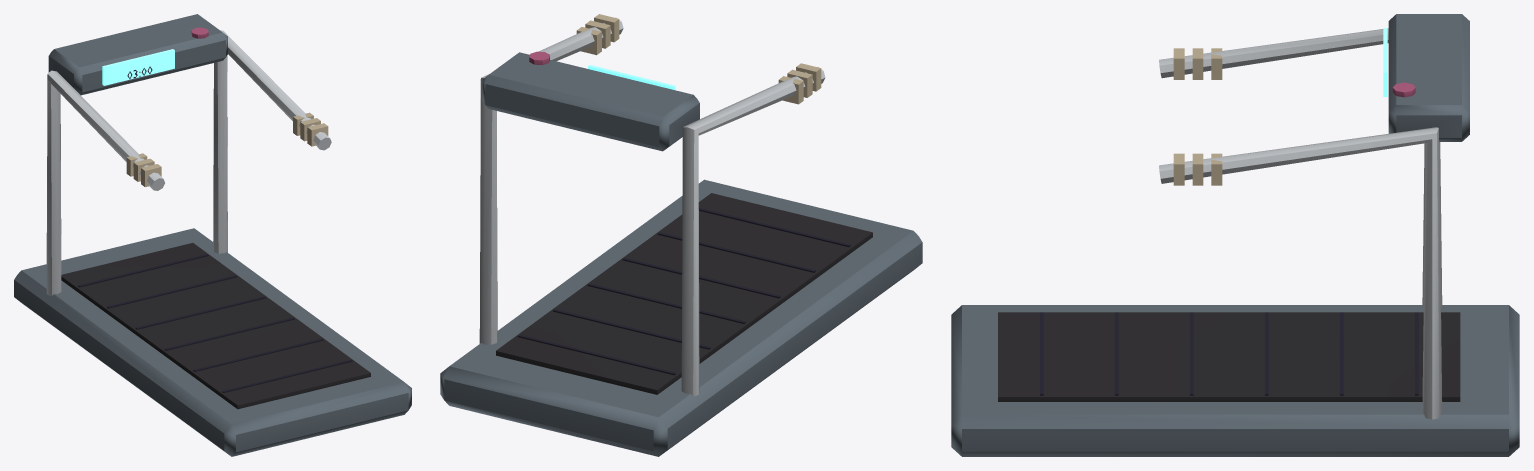
File: treadmill_rattle.glb
3 renders of one model, left to right at view 1: azimuth 30°, elevation 25°; view 2: azimuth 150°, elevation 25°; view 3: azimuth 270°, elevation 25°, orthographic. The views are drawn at different scales.
Visible parts, largest first — view 1: treadmill_rattle, belt, screen; view 2: treadmill_rattle, belt; view 3: treadmill_rattle, belt.
Boxes of the visible parts, x1,y1,x2,y2 form: treadmill_rattle: [14, 14, 411, 456]; belt: [61, 243, 370, 409]; screen: [102, 49, 174, 85]; treadmill_rattle: [440, 14, 922, 456]; belt: [496, 193, 872, 394]; treadmill_rattle: [951, 14, 1519, 456]; belt: [998, 312, 1460, 401].
Size of the model in its own units: 0.9 by 1.23 by 1.82.
